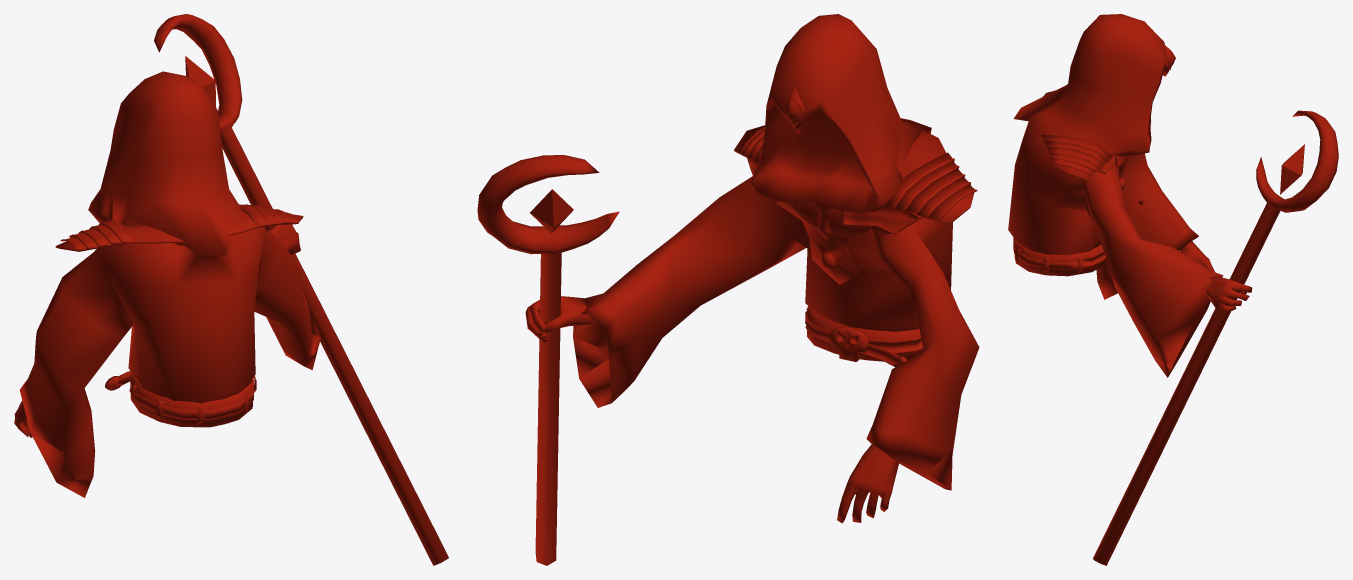
Rendered from top_000046.obj.
3 views of the same model, side by side, from view 1: azimuth 30°, elevation 25°; view 2: azimuth 150°, elevation 25°; view 3: azimuth 270°, elevation 25° (orthographic). The views are drawn at different scales.
Parts seen in each view (by area): view 1: LowPoly_Warlock.000_Plane.005; view 2: LowPoly_Warlock.000_Plane.005; view 3: LowPoly_Warlock.000_Plane.005.
Part boxes in pixels (x1,y1,x2,y2): LowPoly_Warlock.000_Plane.005: (14,14,448,565); LowPoly_Warlock.000_Plane.005: (477,14,979,565); LowPoly_Warlock.000_Plane.005: (1008,14,1338,565).
Bounding box in the file's own units: 1.42 × 1.87 × 1.25.
